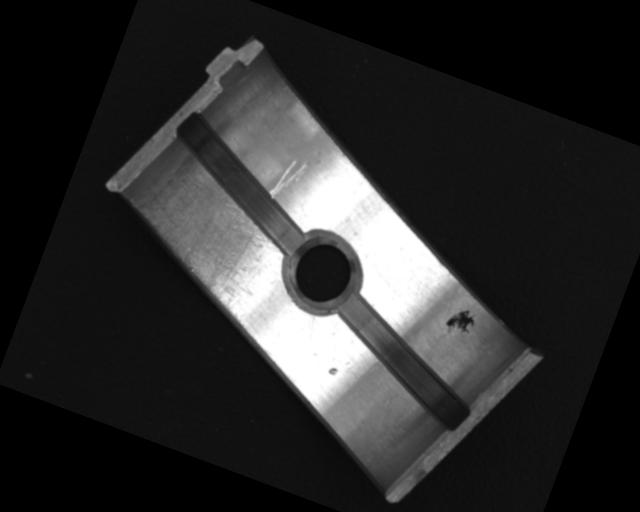blot: (441, 301, 480, 340)
bruise: (327, 365, 339, 376)
gap: (145, 103, 334, 258), (312, 290, 498, 437)
hole: (275, 229, 364, 319)
nick: (266, 151, 310, 206)
scratch: (104, 137, 303, 323)
